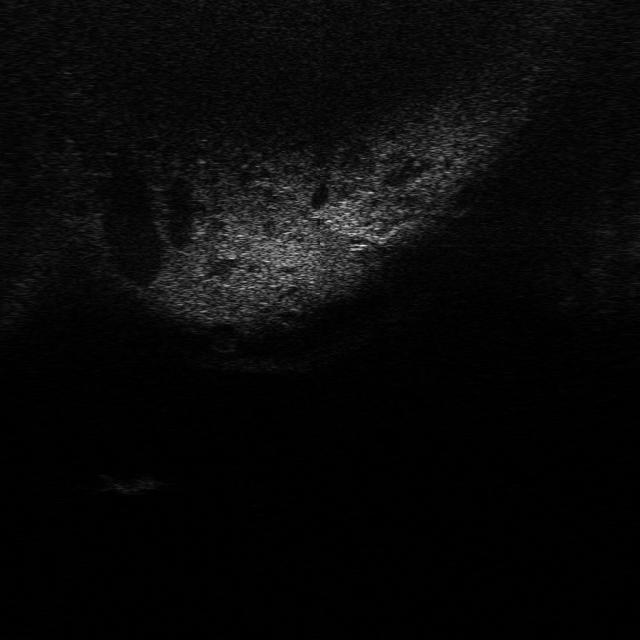cube: (94, 468, 160, 496)
